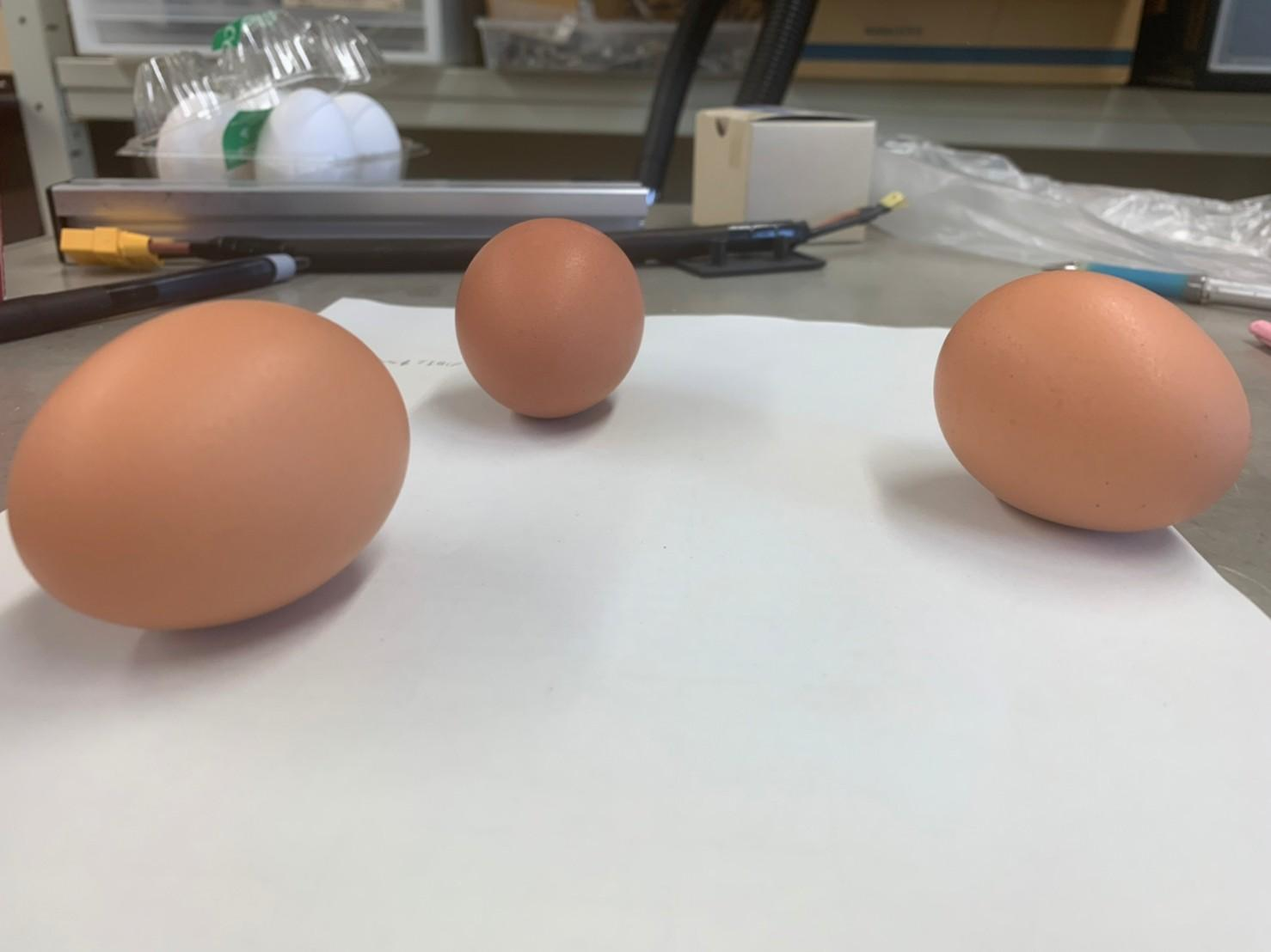egg: (7, 298, 411, 631), (927, 266, 1257, 537), (448, 212, 649, 419)
